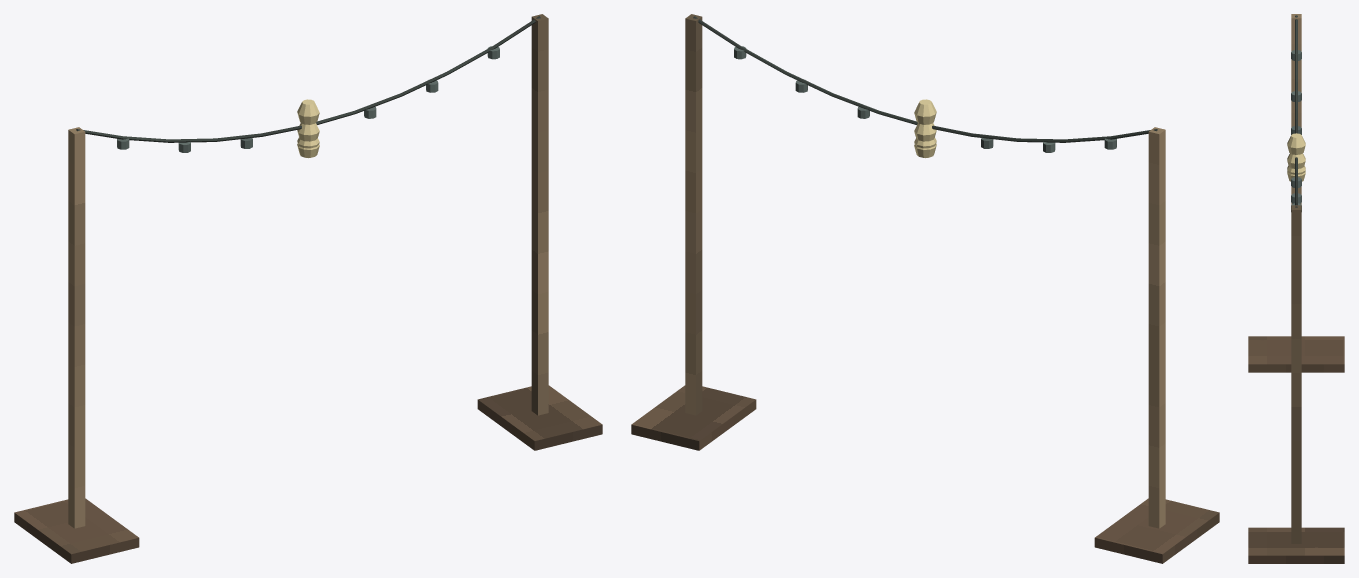
Rendered from string-lights.glb.
The picture shows the model from 3 angles, left to right: view 1: azimuth 30°, elevation 25°; view 2: azimuth 150°, elevation 25°; view 3: azimuth 270°, elevation 25°; orthographic projection. The views are drawn at different scales.
Visible parts, largest first — view 1: string-lights/pole--0.75, string-lights/pole-0.75, string-lights/foot-0.75, string-lights/foot--0.75, string-lights/cable; view 2: string-lights/pole--0.75, string-lights/pole-0.75, string-lights/foot-0.75, string-lights/foot--0.75, string-lights/cable; view 3: string-lights/pole-0.75, string-lights/foot-0.75, string-lights/foot--0.75, string-lights/pole--0.75, string-lights/cable, string-lights/bulb-0, string-lights/bulb-1.
Boxes of the visible parts, x1=… form: string-lights/pole--0.75: x1=68, y1=127, x2=85, y2=528; string-lights/pole-0.75: x1=531, y1=14, x2=548, y2=415; string-lights/foot-0.75: x1=477, y1=385, x2=602, y2=450; string-lights/foot--0.75: x1=14, y1=498, x2=139, y2=563; string-lights/cable: x1=76, y1=16, x2=540, y2=142; string-lights/pole--0.75: x1=1148, y1=127, x2=1165, y2=528; string-lights/pole-0.75: x1=685, y1=14, x2=702, y2=415; string-lights/foot-0.75: x1=631, y1=385, x2=756, y2=450; string-lights/foot--0.75: x1=1094, y1=498, x2=1219, y2=563; string-lights/cable: x1=693, y1=16, x2=1157, y2=142; string-lights/pole-0.75: x1=1291, y1=205, x2=1301, y2=543; string-lights/foot-0.75: x1=1248, y1=527, x2=1344, y2=563; string-lights/foot--0.75: x1=1248, y1=336, x2=1344, y2=372; string-lights/pole--0.75: x1=1291, y1=14, x2=1301, y2=204; string-lights/cable: x1=1295, y1=15, x2=1297, y2=207; string-lights/bulb-0: x1=1287, y1=133, x2=1305, y2=154; string-lights/bulb-1: x1=1287, y1=153, x2=1305, y2=168.
Bounding box in the file's own units: 1.72 × 1.25 × 0.32.
5 materials, 5 textured.
